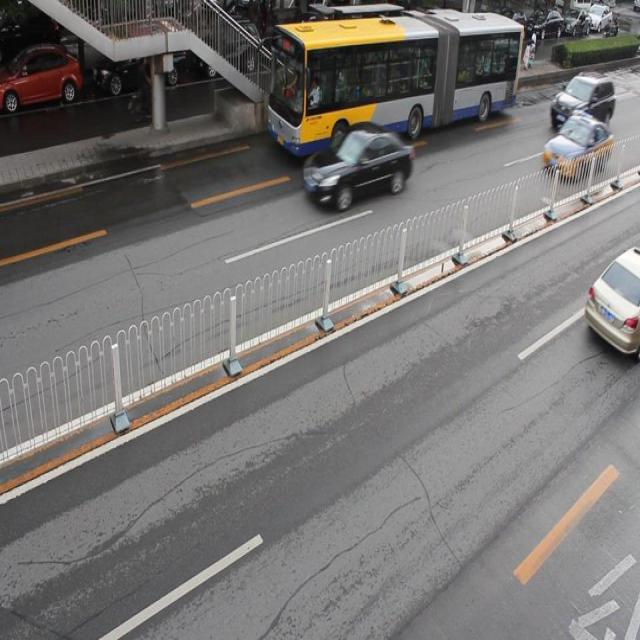car: (303, 120, 412, 212), (582, 244, 640, 357), (94, 34, 186, 95), (1, 46, 82, 113), (540, 113, 610, 182), (195, 16, 262, 78), (274, 16, 342, 68)
truck: (549, 71, 614, 134)
van: (270, 11, 521, 151)
